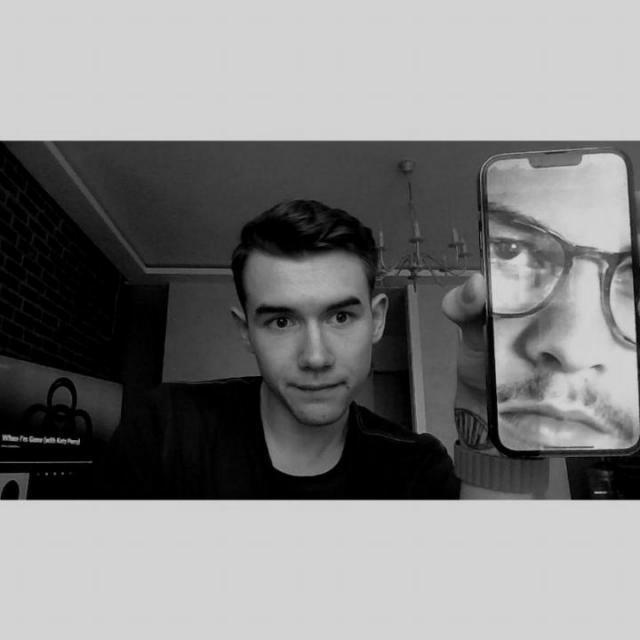fake: (469, 145, 639, 463)
real: (256, 260, 368, 424)
